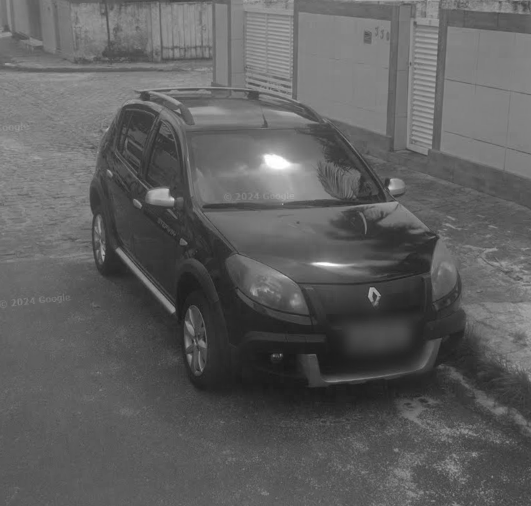car: (87, 83, 468, 397)
